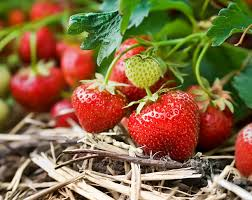ripe: (125, 85, 199, 165), (182, 83, 235, 157), (67, 77, 132, 134), (10, 63, 66, 115), (58, 34, 101, 88), (15, 17, 57, 63), (233, 110, 250, 187)
unripe: (123, 54, 169, 89)
